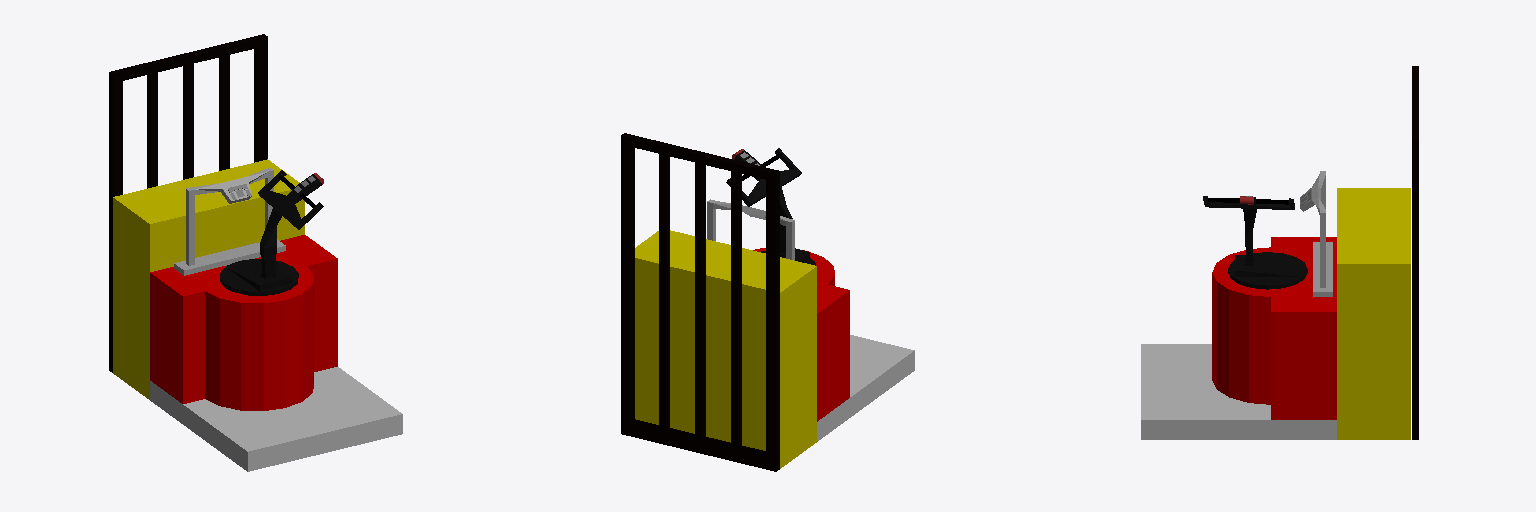
Rendered from autoPalletJack_body.obj.
The picture shows the model from 3 angles: view 1: azimuth 30°, elevation 25°; view 2: azimuth 150°, elevation 25°; view 3: azimuth 270°, elevation 25°; orthographic projection.
Parts seen in each view (by area): view 1: autoPalletJack_body1:Mesh; view 2: autoPalletJack_body1:Mesh; view 3: autoPalletJack_body1:Mesh.
Boxes of the visible parts, box(x1,y1,x2,y2) form: autoPalletJack_body1:Mesh: box(109, 34, 402, 471); autoPalletJack_body1:Mesh: box(621, 133, 914, 471); autoPalletJack_body1:Mesh: box(1141, 66, 1418, 439).
Size of the model in its own units: 0.2769 by 0.5199 by 0.4285.